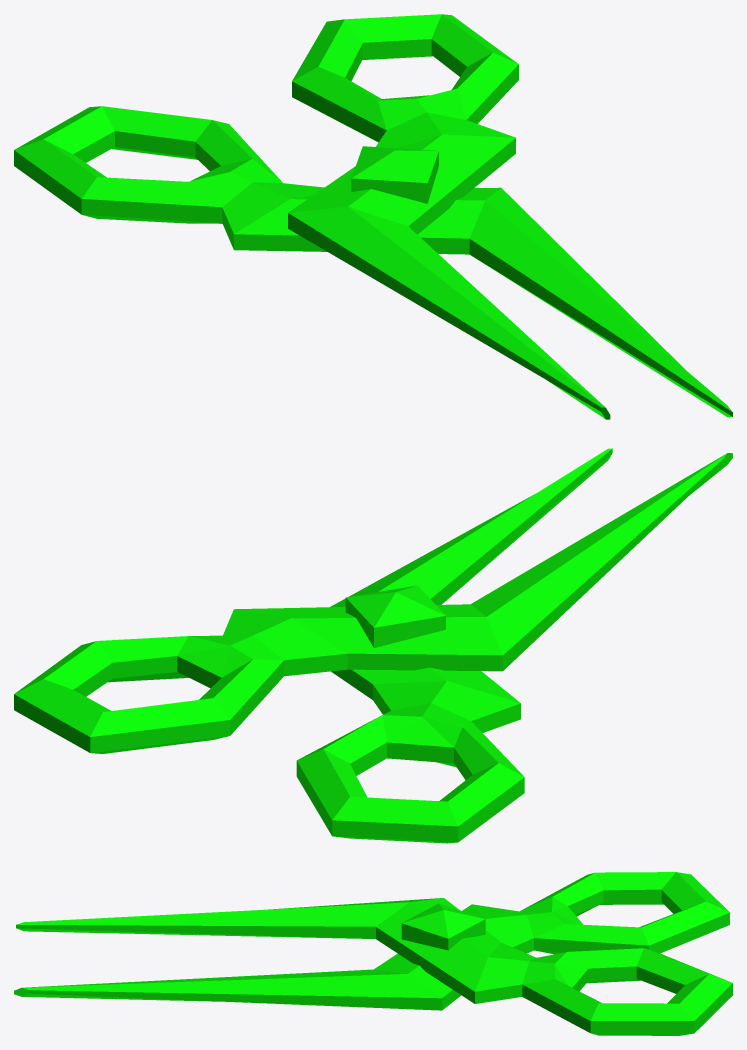
File: SM_Scissors_Fantasy.fbx
The picture shows the model from 3 angles, top to bottom: view 1: azimuth 30°, elevation 25°; view 2: azimuth 150°, elevation 25°; view 3: azimuth 270°, elevation 25°; orthographic projection. The views are drawn at different scales.
Parts seen in each view (by area): view 1: scissors-fantasy; view 2: scissors-fantasy; view 3: scissors-fantasy.
Part boxes in pixels (left/top/right/bottom): scissors-fantasy: left=14, top=14, right=732, bottom=419; scissors-fantasy: left=14, top=448, right=732, bottom=843; scissors-fantasy: left=14, top=872, right=732, bottom=1035.
Size of the model in its own units: 0.1637 by 0.0324 by 0.2984.
